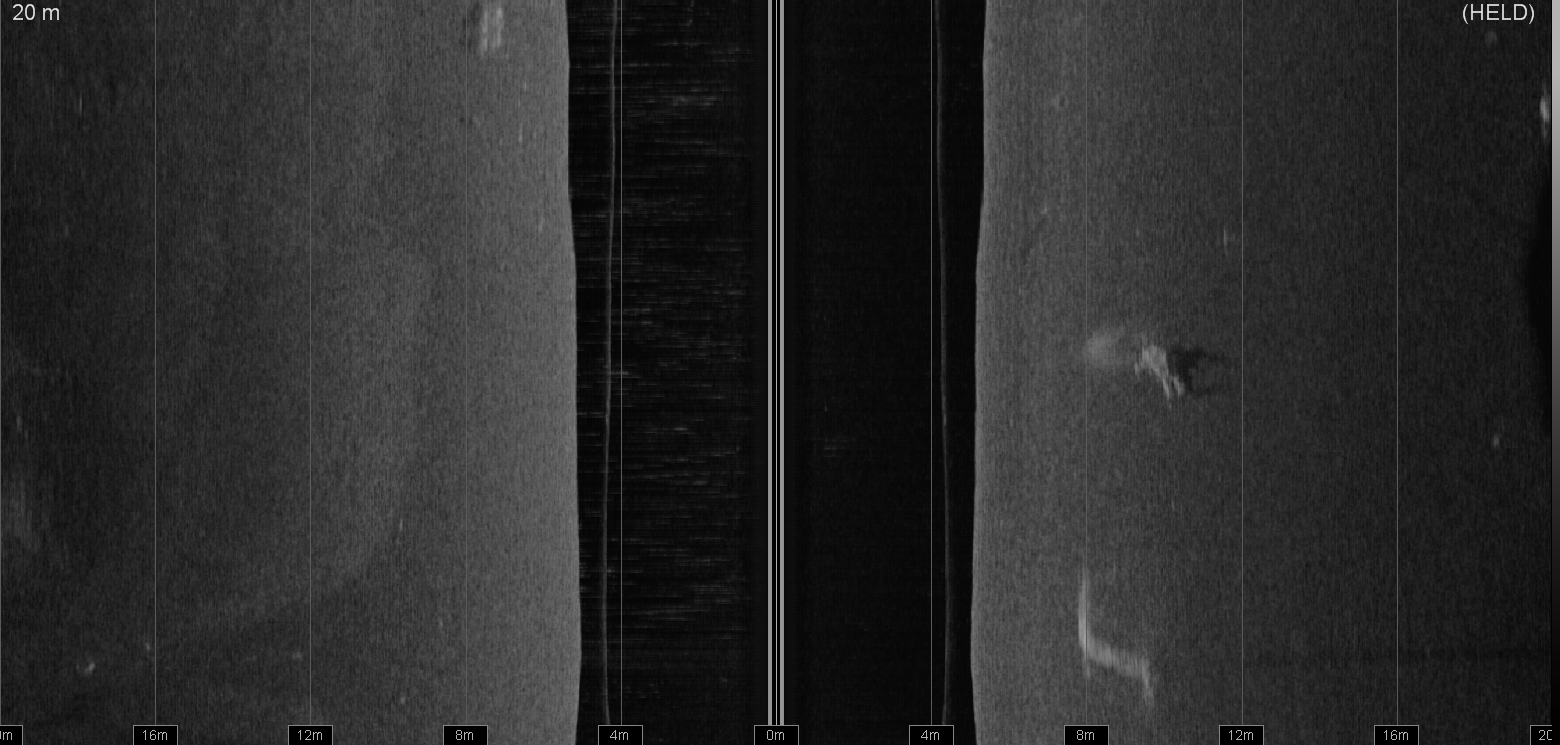man: (1129, 331, 1187, 405)
